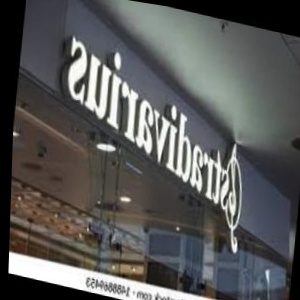stradivarius: (263, 161, 300, 172)
